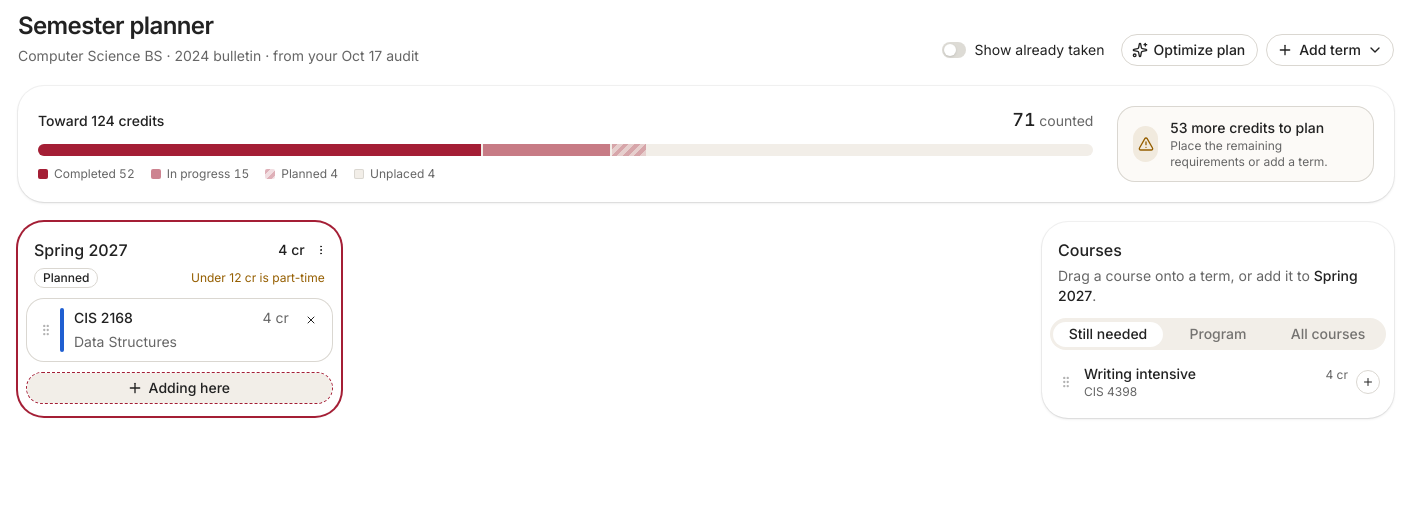
Scenario: PlanPage › adds a still-needed requirement to the chosen term
Click the button named "Add Writing intensive to Spring 2027" at point(1368, 382), box [1356,370,1380,394]
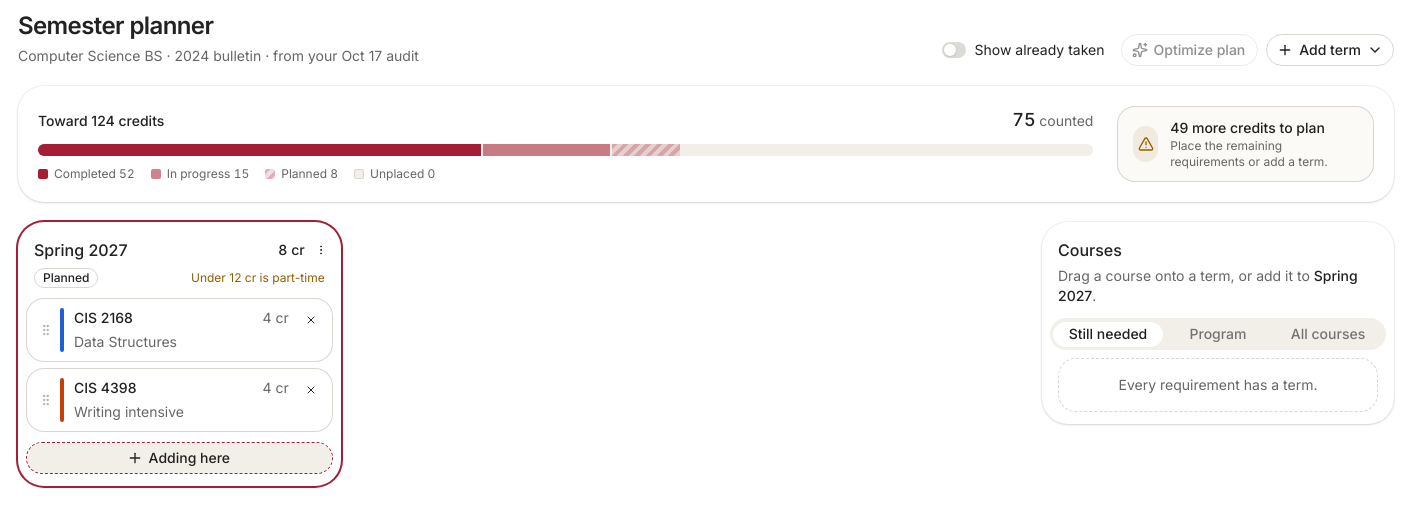
Result: the text "Every requirement has a term." is shown at [1058,358,1378,412]
